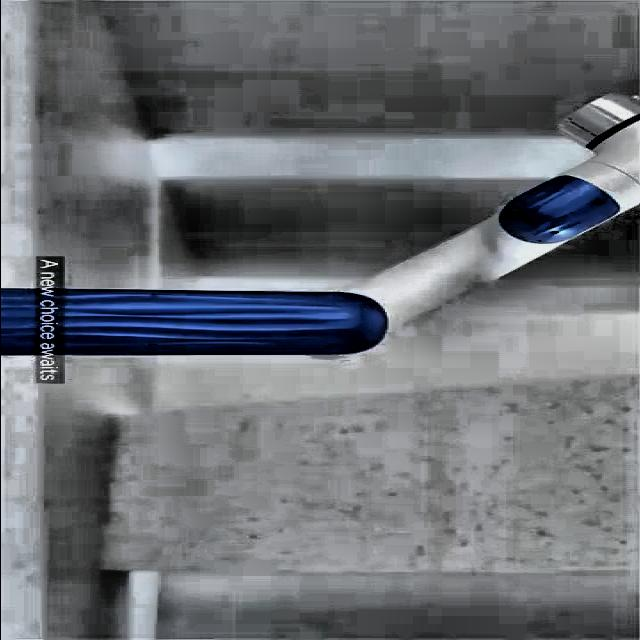robot: (4, 91, 640, 358)
